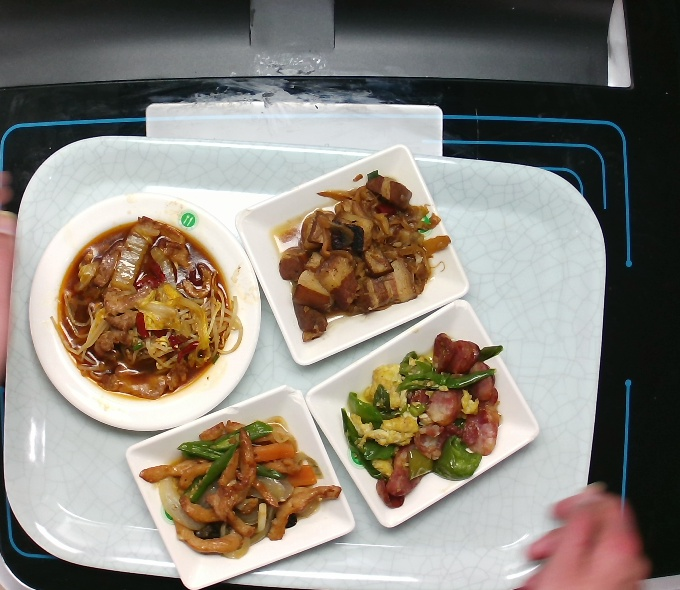wcq-HongShaoRou: (277, 169, 452, 344)
wcq-QingJiaoJiDanChaoDaChang: (337, 330, 505, 509)
wcq-QingJiaoRouSi: (140, 419, 343, 565)
wcq-ShuiZhuRouPian: (54, 218, 238, 402)
